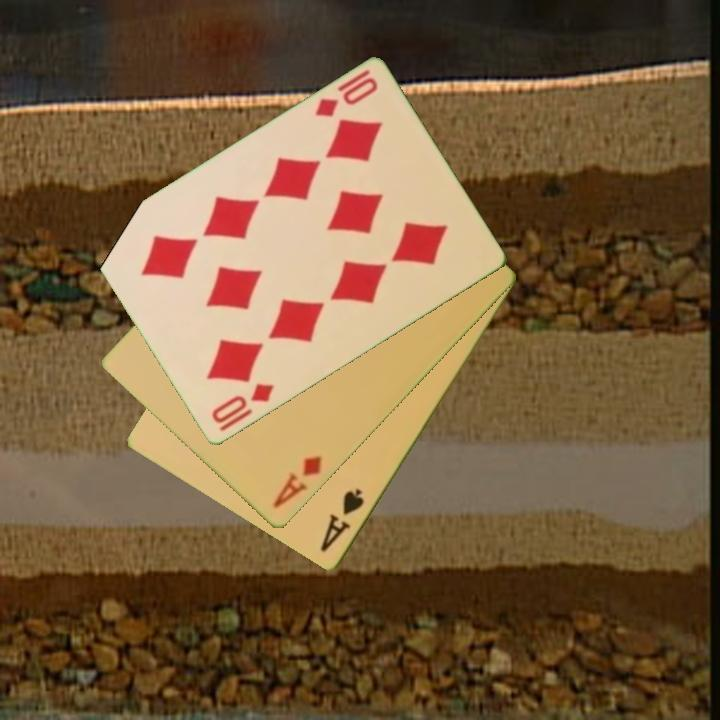10d: (207, 380, 278, 435), (311, 74, 381, 121)
Ad: (269, 452, 325, 512)
As: (317, 485, 368, 556)
